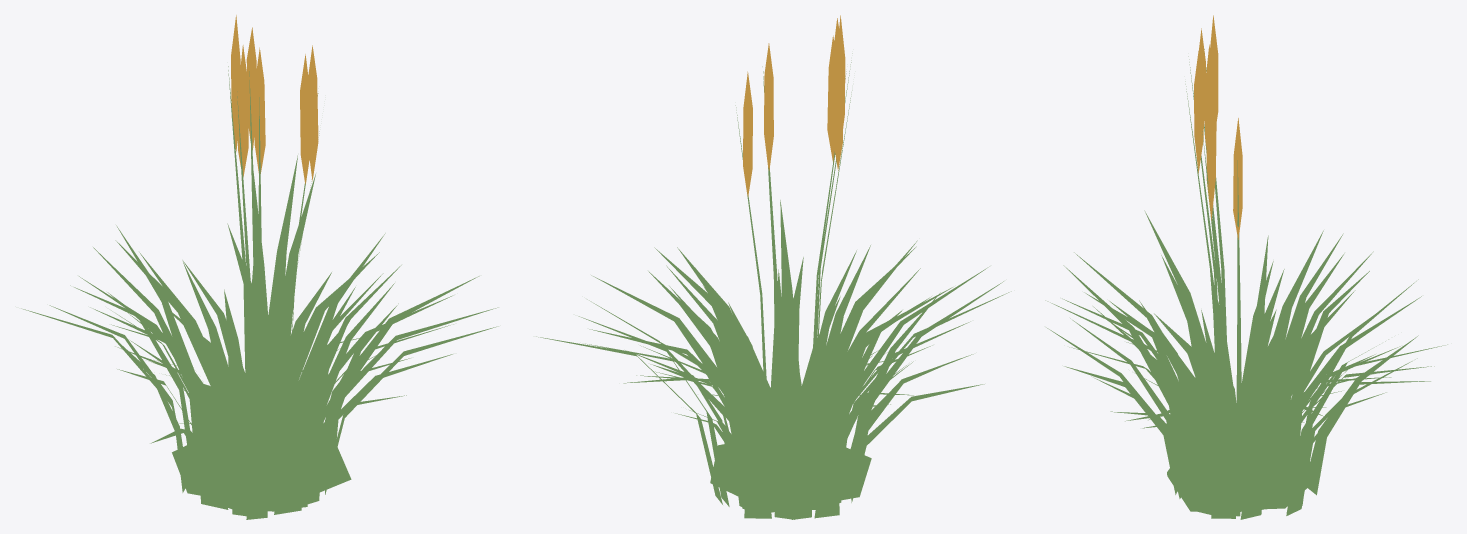
File: Blender_Indiangrass_2.glb
The picture shows the model from 3 angles, left to right: view 1: azimuth 30°, elevation 25°; view 2: azimuth 150°, elevation 25°; view 3: azimuth 270°, elevation 25°; orthographic projection. The views are drawn at different scales.
Parts seen in each view (by area): view 1: Blender_Indiangrass_2; view 2: Blender_Indiangrass_2; view 3: Blender_Indiangrass_2.
Part boxes in pixels (x1,y1,x2,y2): Blender_Indiangrass_2: (21,15,498,519); Blender_Indiangrass_2: (536,15,1011,519); Blender_Indiangrass_2: (1045,15,1447,519).
Bounding box in the file's own units: 1.24 × 1.45 × 1.17.
